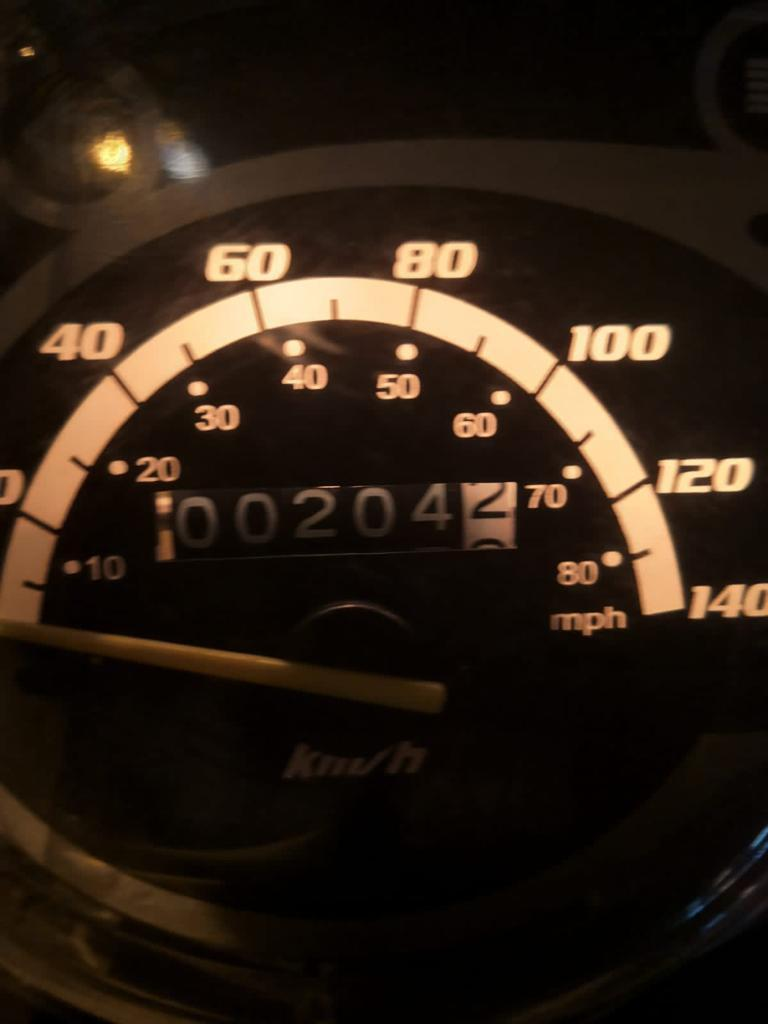0: (171, 488, 220, 554), (352, 481, 397, 544), (234, 487, 281, 547)
2: (290, 483, 340, 543), (464, 473, 513, 532)
4: (411, 479, 457, 535)
odometer: (156, 473, 529, 567)
